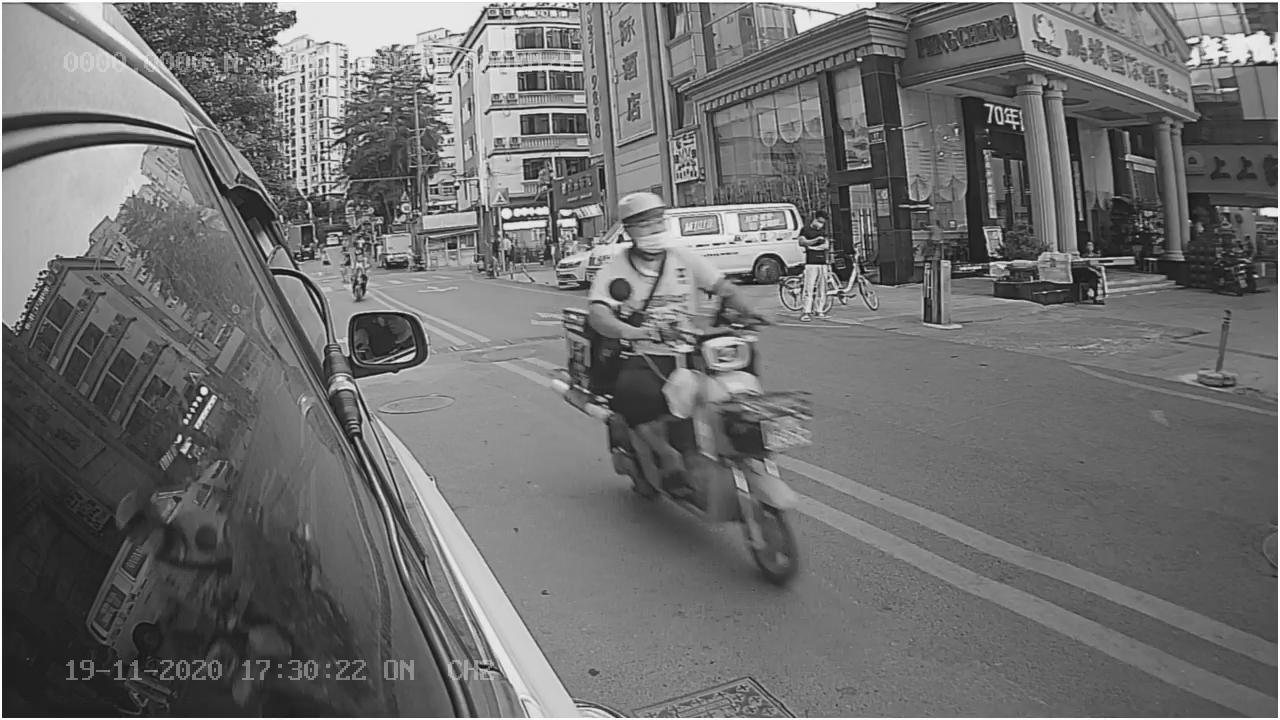person: (576, 192, 747, 337)
